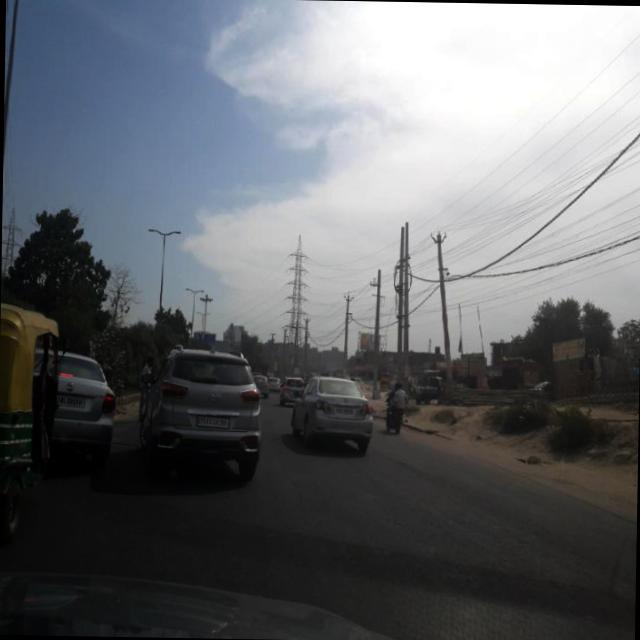crack: (108, 446, 593, 624)
